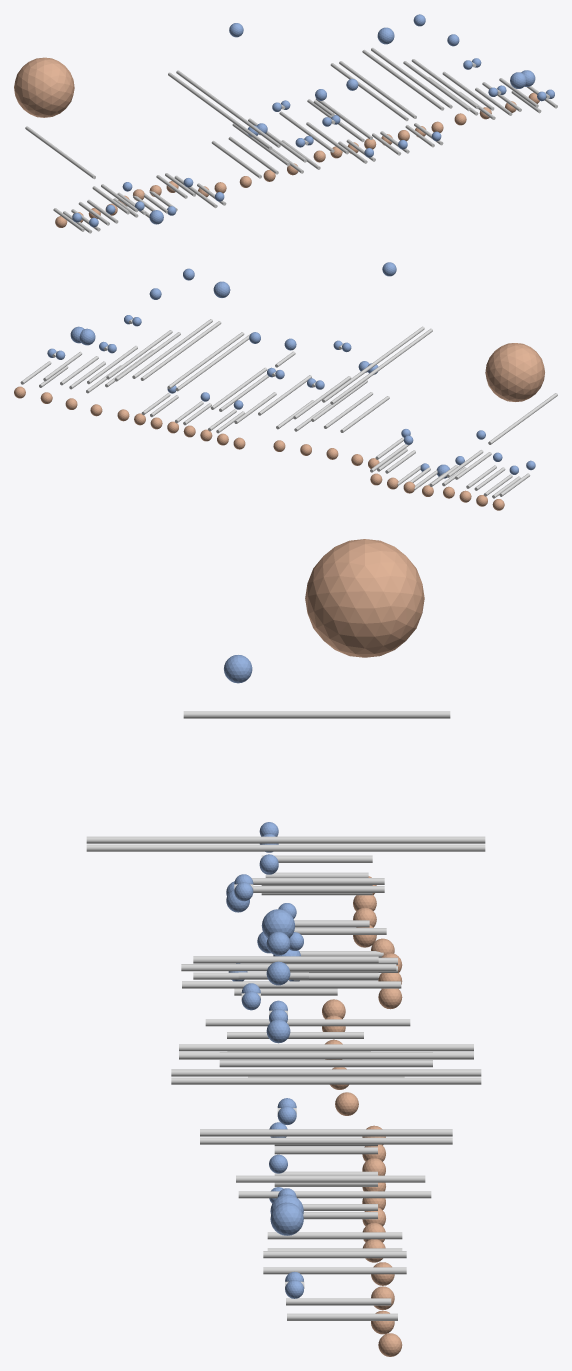
The model's file is commit_sculpture_organic.glb.
3 views of the same model, one above another, from view 1: azimuth 30°, elevation 25°; view 2: azimuth 150°, elevation 25°; view 3: azimuth 270°, elevation 25° (orthographic). The views are drawn at different scales.
Parts seen in each view (by area): view 1: world; view 2: world; view 3: world.
Part boxes in pixels (left/top/right/bottom): world: left=14, top=14, right=557, bottom=233; world: left=14, top=262, right=557, bottom=510; world: left=86, top=539, right=485, bottom=1356.
Bounding box in the file's own units: 50.2 × 17.54 × 16.66.
